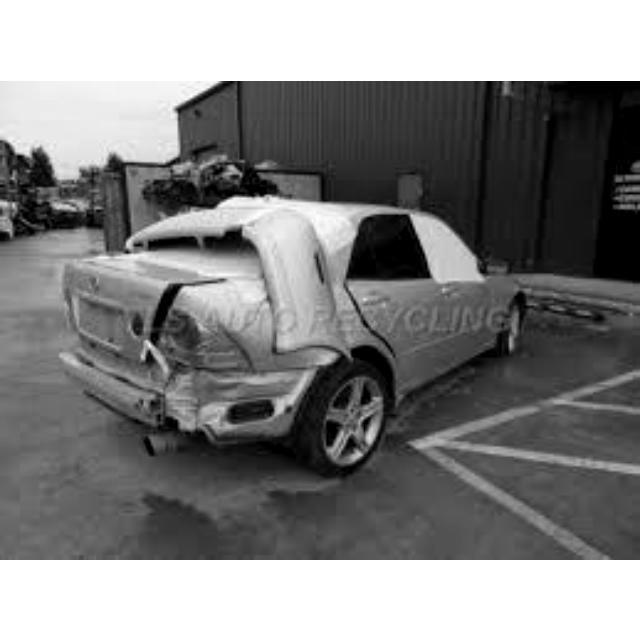quaterpanel-dent: (174, 296, 295, 375)
rear-bumper-dent: (100, 370, 285, 439)
